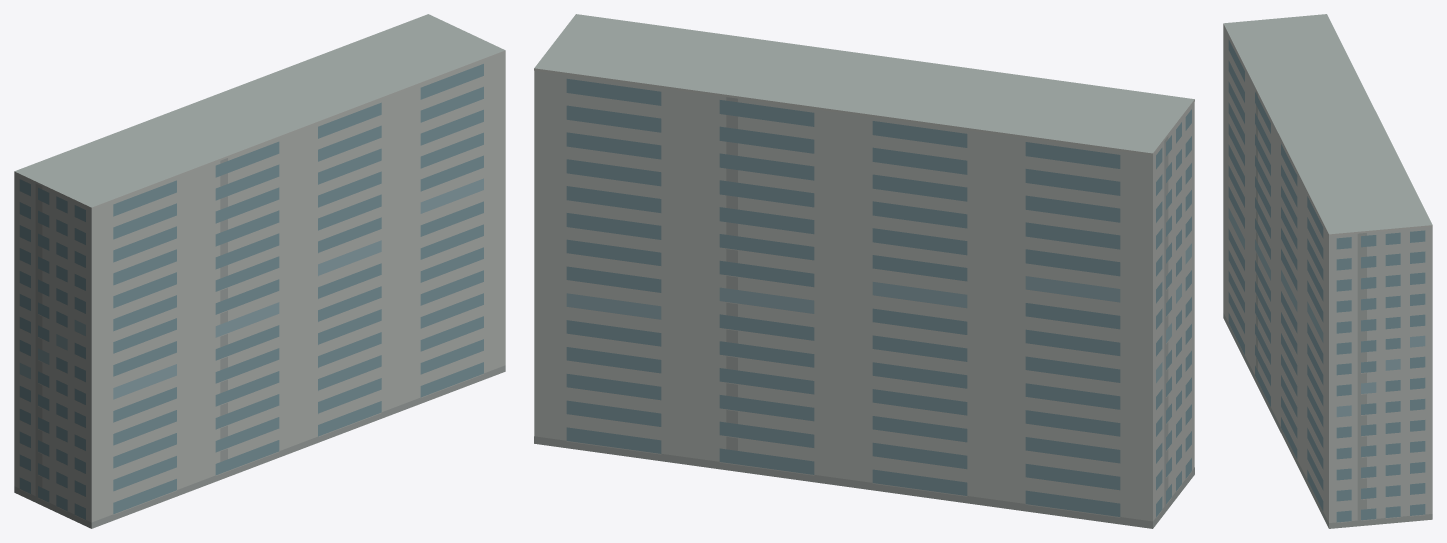
Rendered from residential-23ce2e7f-0f0a-4d32-8910-56e19958eb06.glb.
The picture shows the model from 3 angles, left to right: view 1: azimuth 30°, elevation 25°; view 2: azimuth 150°, elevation 25°; view 3: azimuth 270°, elevation 25°; orthographic projection. The views are drawn at different scales.
Visible parts, largest first — view 1: residential-23ce2e7f-0f0a-4d32-8910-56e19958eb06.tmp; view 2: residential-23ce2e7f-0f0a-4d32-8910-56e19958eb06.tmp; view 3: residential-23ce2e7f-0f0a-4d32-8910-56e19958eb06.tmp.
Boxes of the visible parts, x1,y1,x2,y2 form: residential-23ce2e7f-0f0a-4d32-8910-56e19958eb06.tmp: (14,14,505,528); residential-23ce2e7f-0f0a-4d32-8910-56e19958eb06.tmp: (534,14,1194,528); residential-23ce2e7f-0f0a-4d32-8910-56e19958eb06.tmp: (1223,14,1432,528).
Bounding box in the file's own units: 64.18 × 40 × 25.79.
